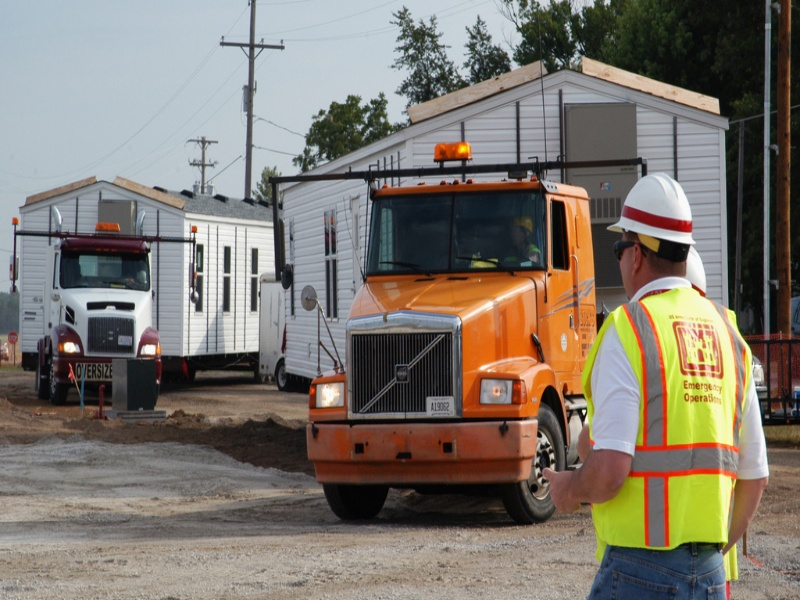Baret: (607, 172, 698, 244)
